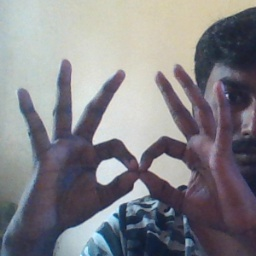B: (81, 102, 202, 210)
